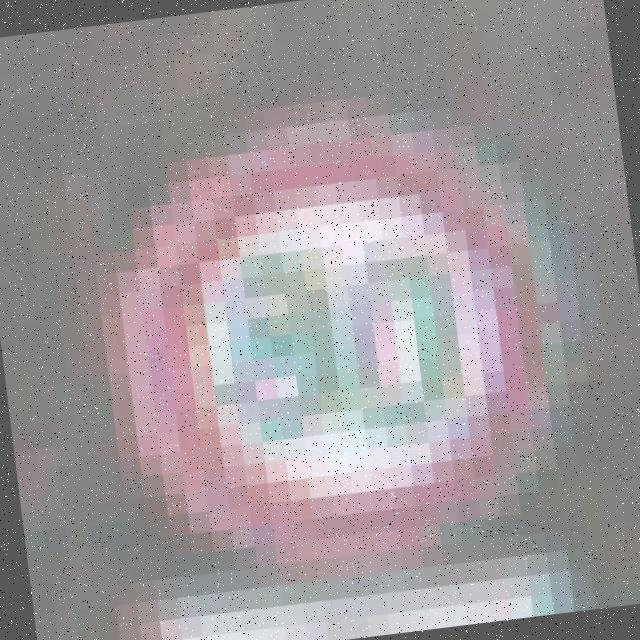Ograniczenie predkosci do 80: (112, 102, 573, 594)
